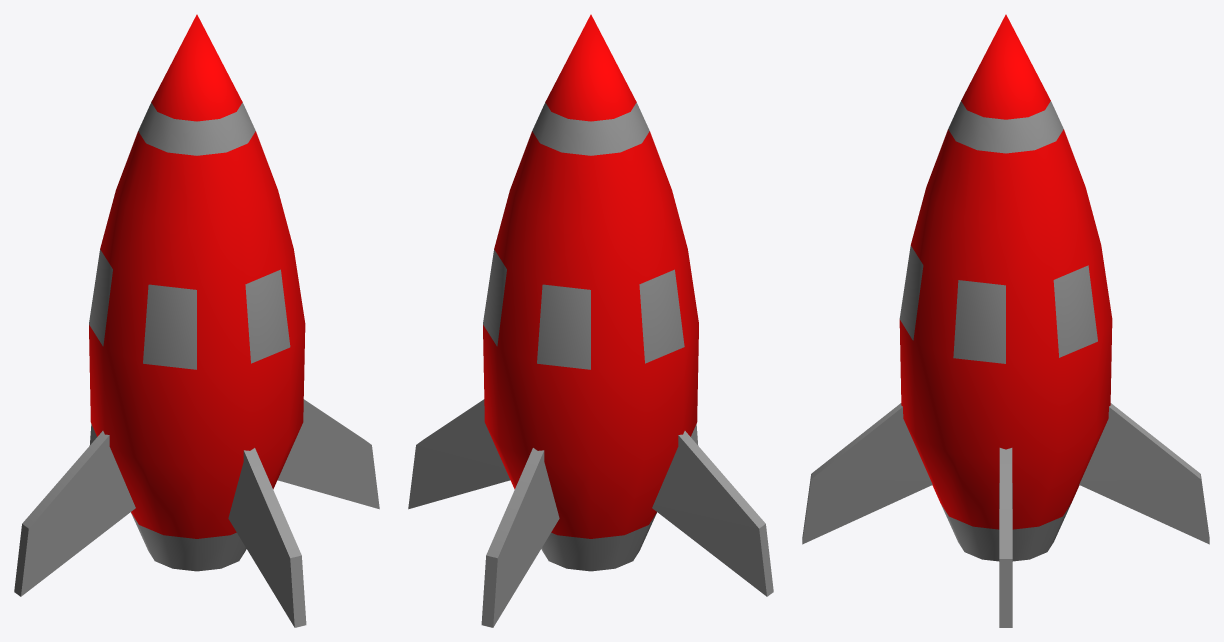
Rendered from model_ship03.FBX.
The picture shows the model from 3 angles, left to right: view 1: azimuth 30°, elevation 25°; view 2: azimuth 150°, elevation 25°; view 3: azimuth 270°, elevation 25°; orthographic projection.
Visible parts, largest first — view 1: mesh_ship03; view 2: mesh_ship03; view 3: mesh_ship03.
Boxes of the visible parts, <box> form: mesh_ship03: <box>14,14,379,627</box>; mesh_ship03: <box>408,14,773,627</box>; mesh_ship03: <box>802,14,1209,627</box>.
Size of the model in its own units: 27.92 by 39.91 by 27.92.
